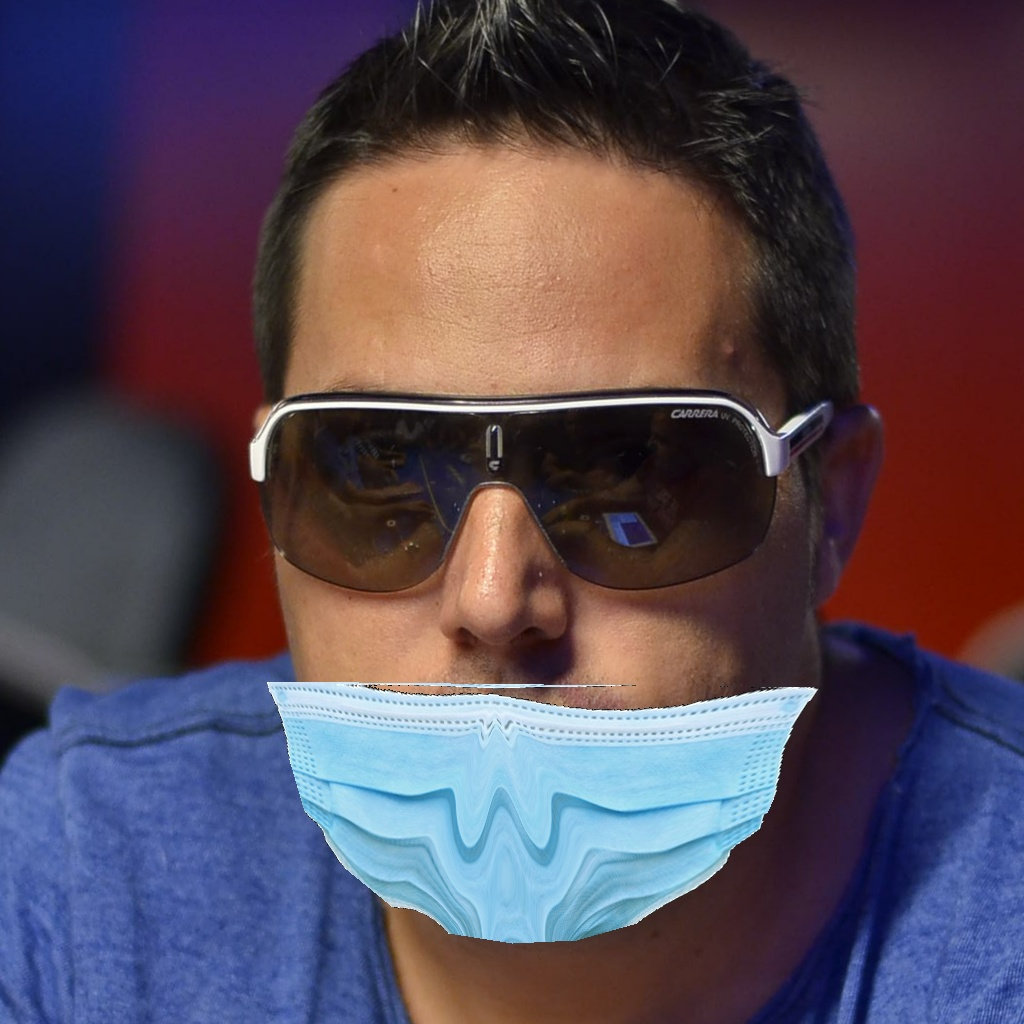mascarilla_mal_puesta: (254, 465, 814, 923)
